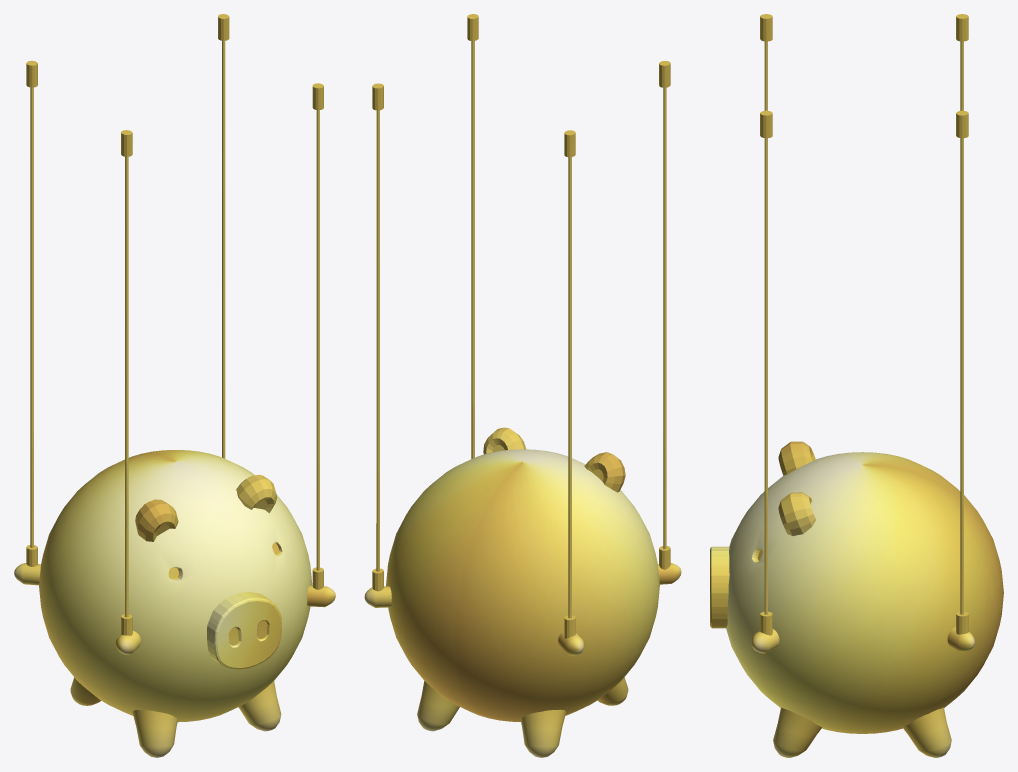
Rendered from SQU_OX_obj_Pig.fbx.
3 renders of one model, left to right at view 1: azimuth 30°, elevation 25°; view 2: azimuth 150°, elevation 25°; view 3: azimuth 270°, elevation 25°, orthographic. The views are drawn at different scales.
Parts seen in each view (by area): view 1: SQU_OX_obj_Pig; view 2: SQU_OX_obj_Pig; view 3: SQU_OX_obj_Pig.
Boxes of the visible parts, bbox=[...] form: SQU_OX_obj_Pig: bbox=[14, 14, 335, 757]; SQU_OX_obj_Pig: bbox=[364, 14, 681, 757]; SQU_OX_obj_Pig: bbox=[710, 14, 1003, 757].
Bounding box in the file's own units: 290 × 750 × 301.
